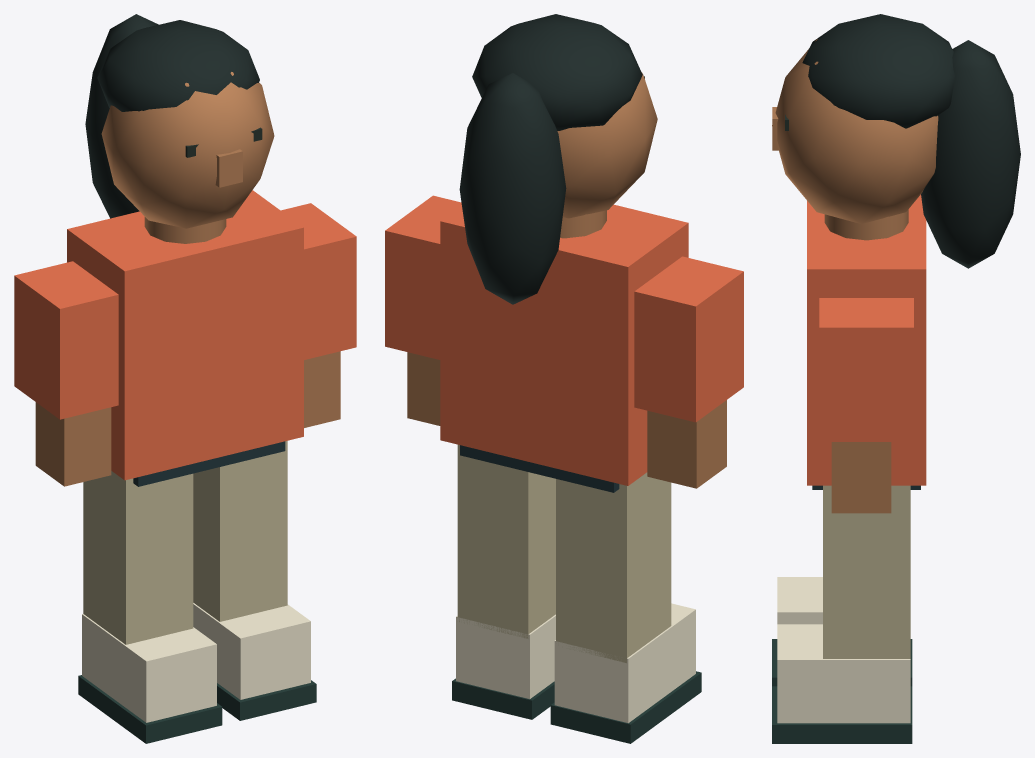
Rendered from male-ponytail.glb.
3 renders of one model, left to right at view 1: azimuth 30°, elevation 25°; view 2: azimuth 150°, elevation 25°; view 3: azimuth 270°, elevation 25°, orthographic. The views are drawn at different scales.
Parts seen in each view (by area): view 1: male-ponytail, avatar-hair; view 2: male-ponytail, avatar-hair; view 3: male-ponytail, avatar-hair.
Boxes of the visible parts, x1,y1,x2,y2 form: male-ponytail: (14,20,356,743); avatar-hair: (85,14,158,218); male-ponytail: (385,14,743,743); avatar-hair: (459,73,566,304); male-ponytail: (772,14,954,743); avatar-hair: (921,40,1020,268).
Size of the model in its own units: 1.01 by 2.13 by 0.71.
